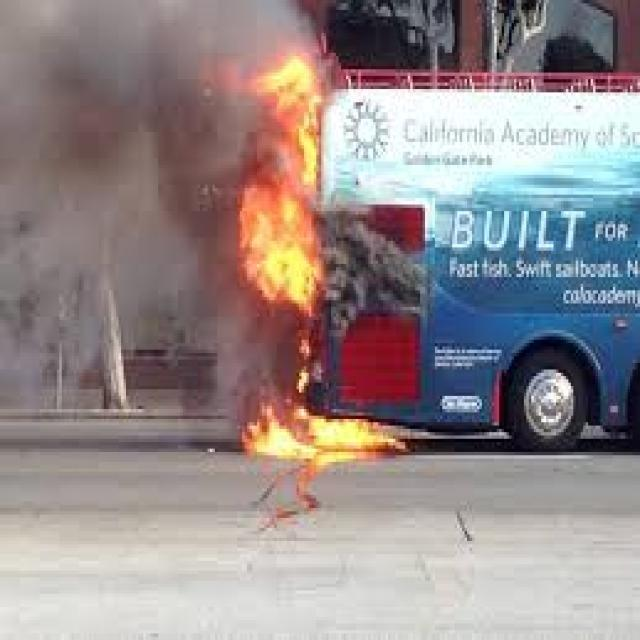Fire: (223, 49, 404, 462)
Smoke: (1, 0, 225, 419)
